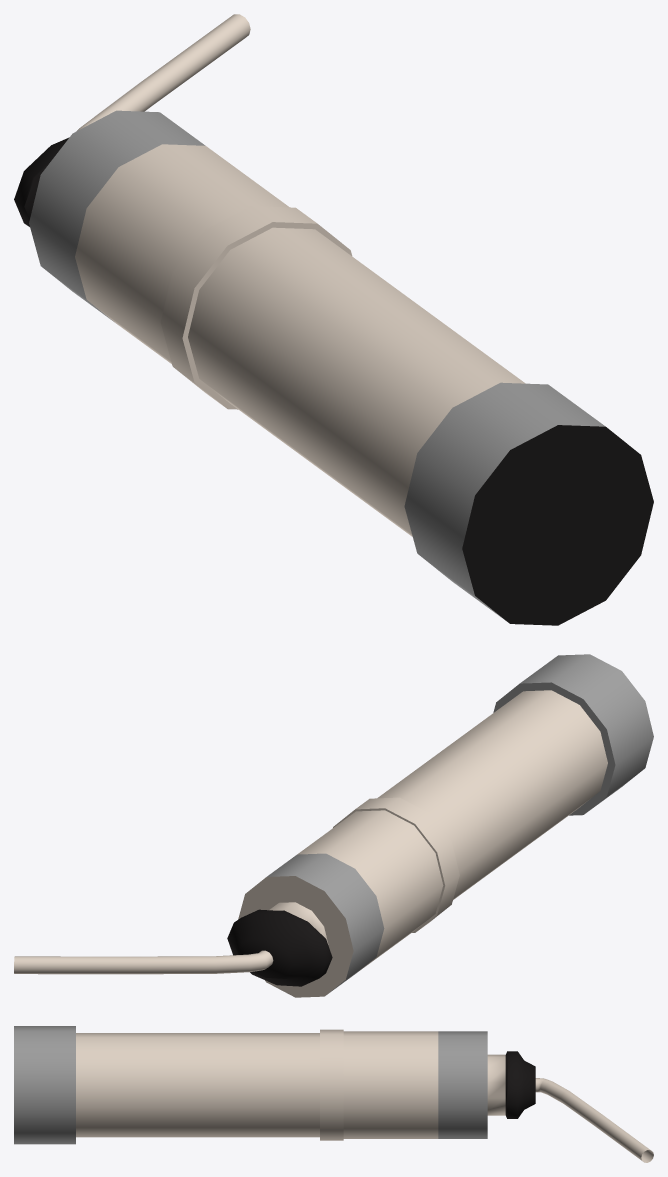
3 views of the same model, one above another, from view 1: azimuth 30°, elevation 25°; view 2: azimuth 150°, elevation 25°; view 3: azimuth 270°, elevation 25° (orthographic). The views are drawn at different scales.
Parts seen in each view (by area): view 1: Circle; view 2: Circle; view 3: Circle.
Part boxes in pixels (box(x1,y1,x2,y2)): Circle: box(14, 14, 653, 625); Circle: box(14, 654, 653, 997); Circle: box(14, 1026, 653, 1162).
Size of the model in its own units: 11.3 by 5.8 by 31.28.
